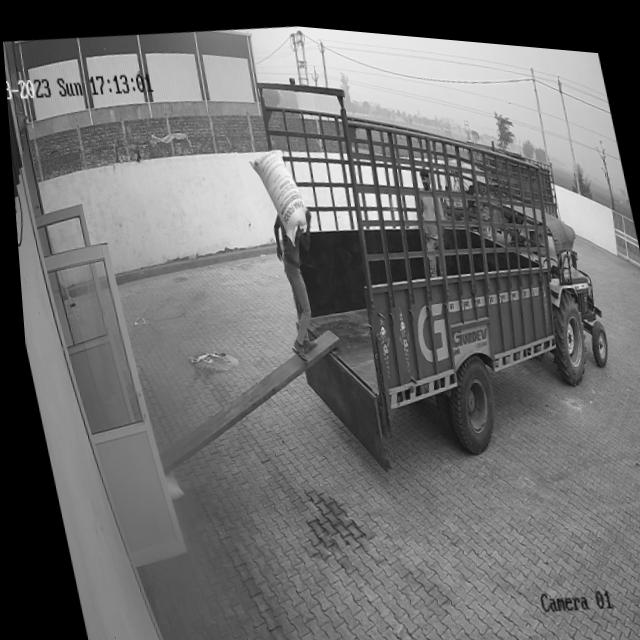sack: (244, 139, 311, 247)
